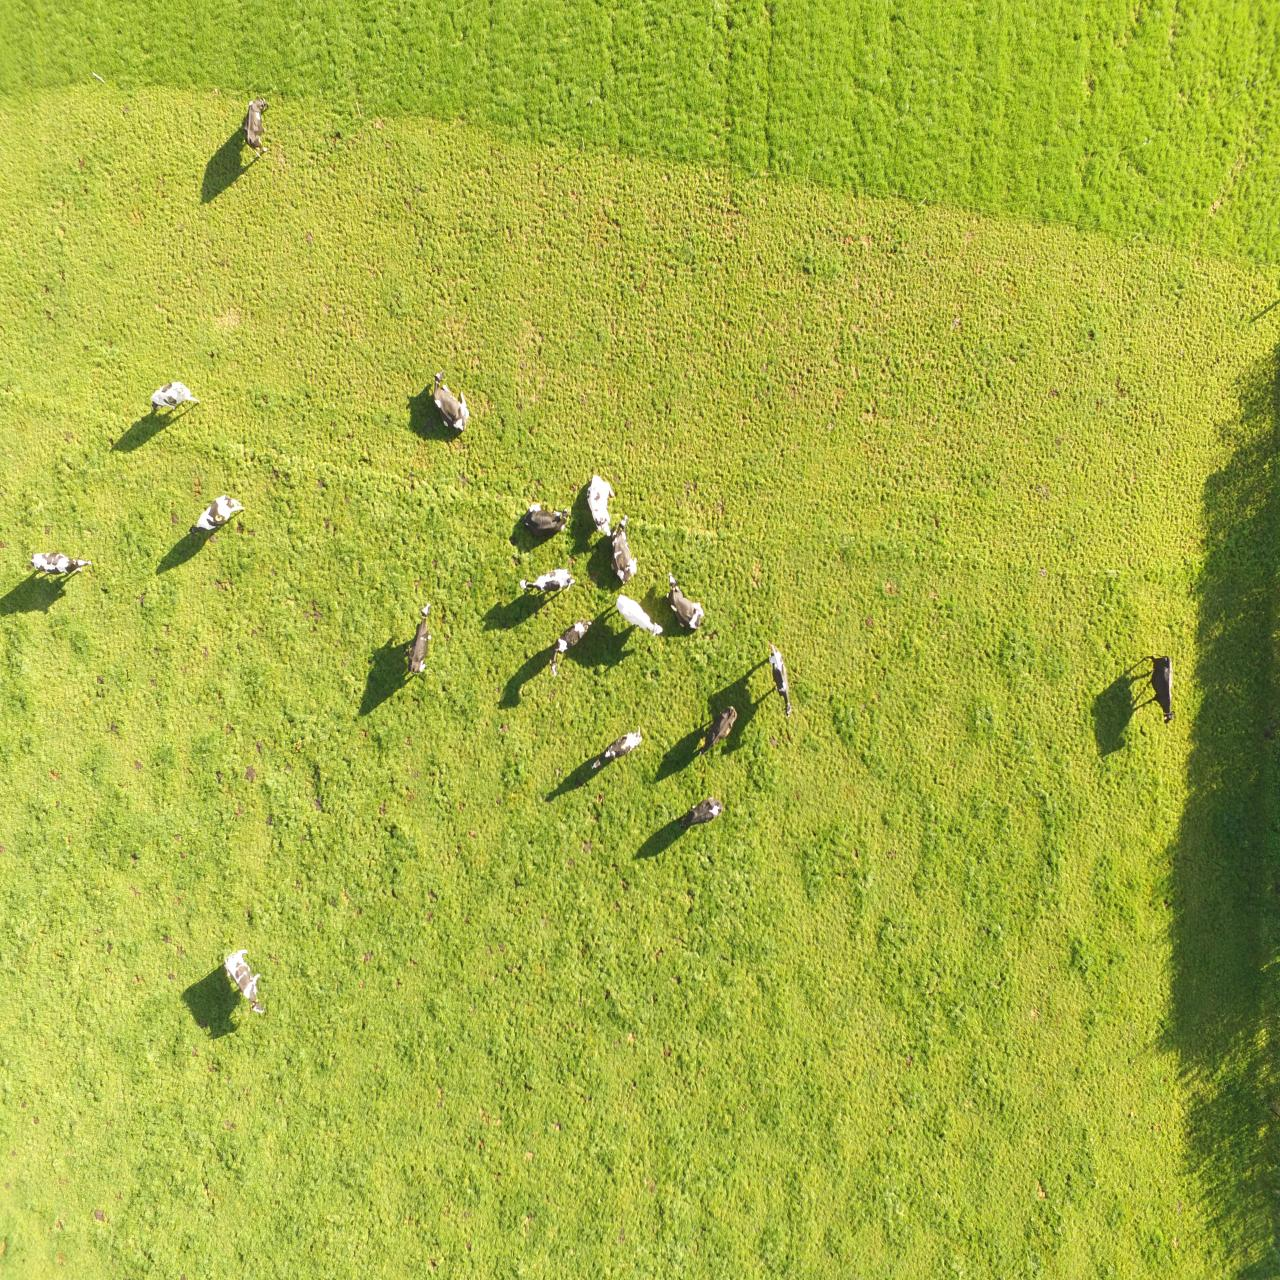cow: (218, 946, 267, 1016), (430, 367, 471, 434), (587, 722, 647, 767), (546, 621, 594, 675), (666, 572, 707, 634), (188, 495, 245, 538), (1145, 648, 1176, 727), (406, 604, 436, 676), (617, 591, 667, 634), (144, 379, 207, 413), (29, 545, 91, 579), (238, 95, 268, 164), (767, 644, 794, 720), (699, 702, 737, 755), (610, 513, 636, 585), (586, 472, 610, 539), (522, 504, 571, 535), (519, 567, 577, 593), (679, 796, 723, 826)
